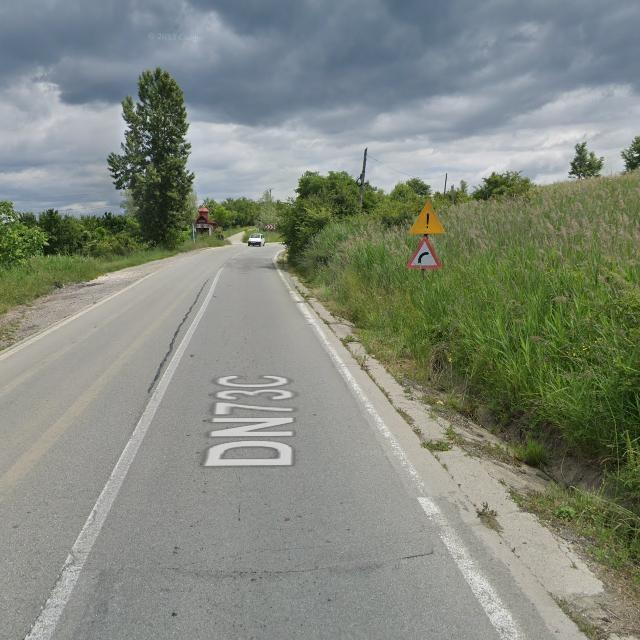warn_right_curve: (406, 237, 443, 269)
